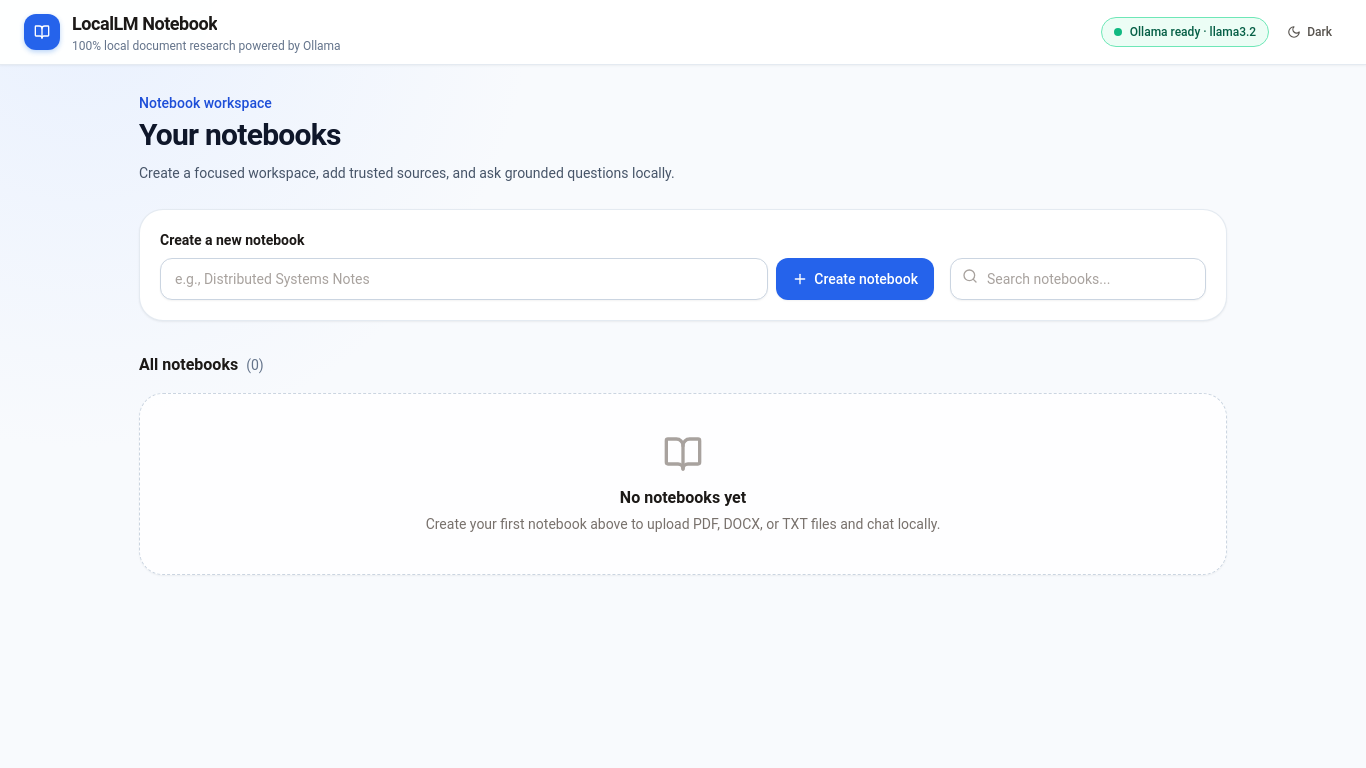
Scenario: App › shows validation feedback instead of submitting a blank notebook title
The width and height of the screenshot is (1366, 768).
Click the button "Create notebook" at coordinates (855, 279), box [776,258,934,300]
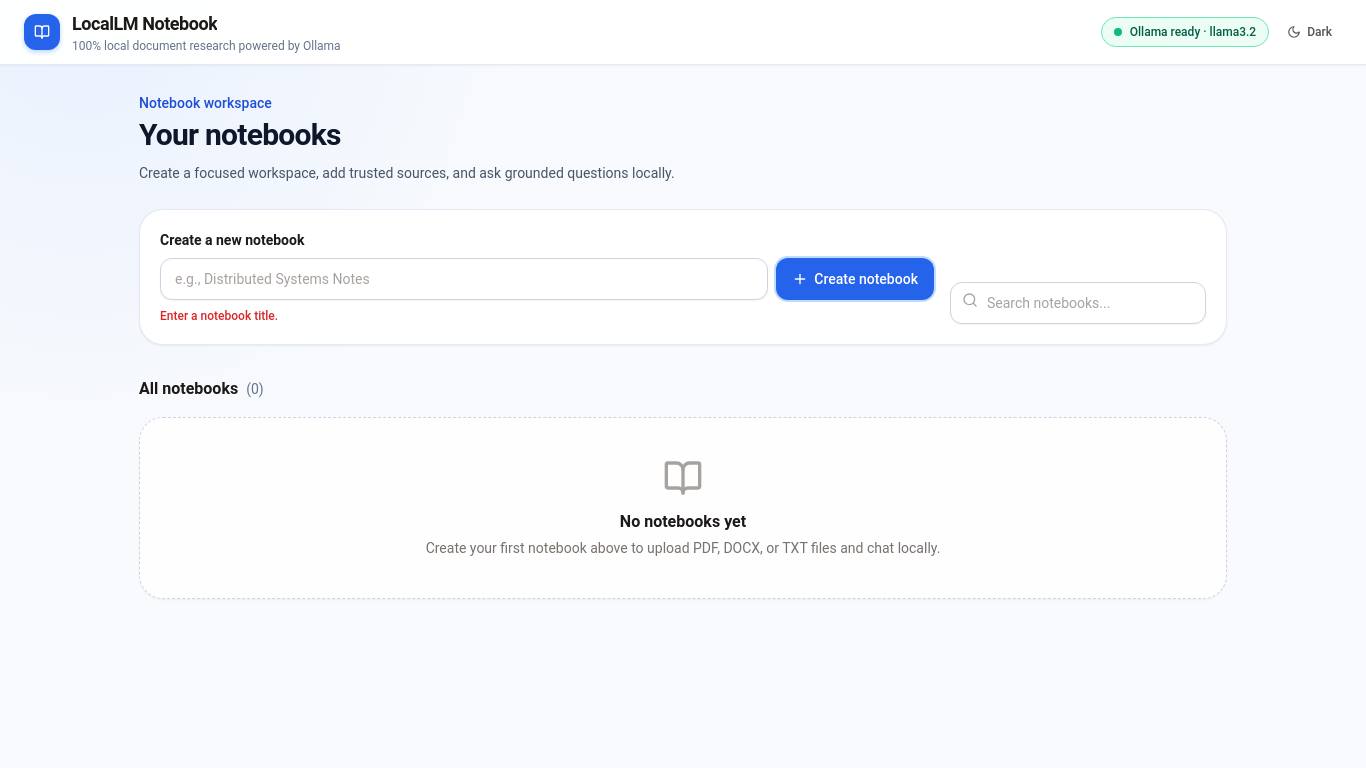
Expected: the message "Enter a notebook title." is shown, [160,309,278,323]
